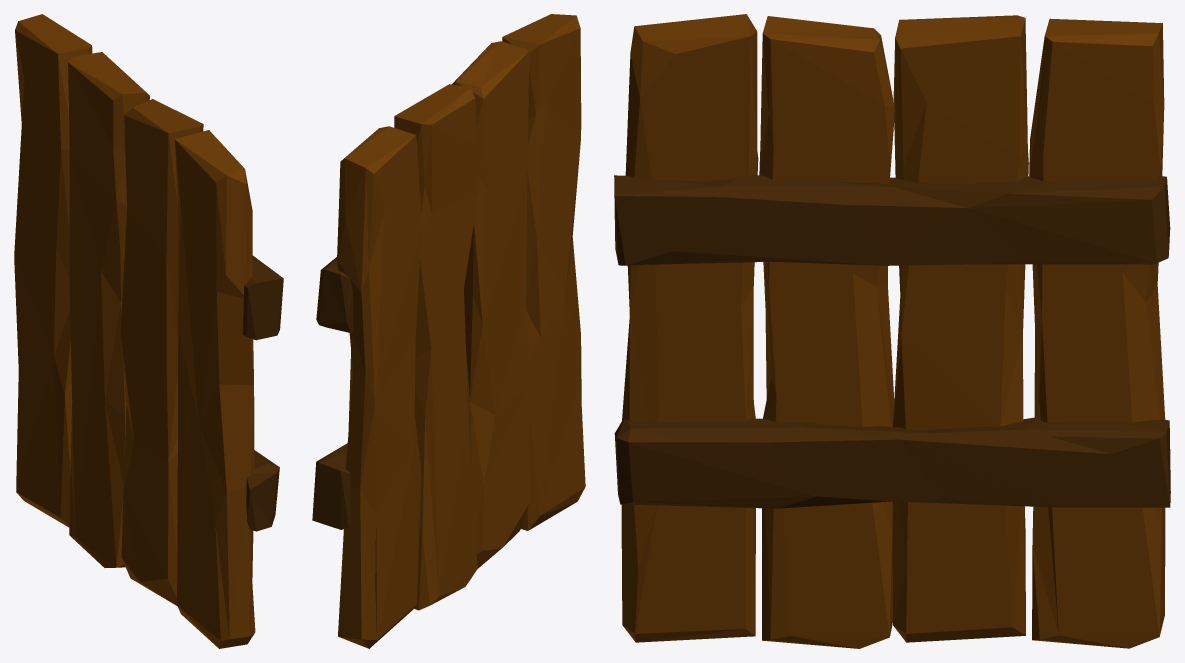
The model's file is PicketFence 1M.fbx.
3 views of the same model, side by side, from view 1: azimuth 30°, elevation 25°; view 2: azimuth 150°, elevation 25°; view 3: azimuth 270°, elevation 25° (orthographic). The views are drawn at different scales.
Visible parts, largest first — view 1: Cube.004, Cube.005, Cube.003, Cube.012, Cube.013, Cube.014; view 2: Cube.012, Cube.003, Cube.005, Cube.004, Cube.014, Cube.013; view 3: Cube.005, Cube.003, Cube.012, Cube.004, Cube.013, Cube.014.
Boxes of the visible parts, left/top/right/bottom form: Cube.004: left=174, top=130, right=255, bottom=648; Cube.005: left=68, top=52, right=149, bottom=567; Cube.003: left=120, top=99, right=203, bottom=606; Cube.012: left=14, top=14, right=92, bottom=527; Cube.013: left=243, top=255, right=283, bottom=340; Cube.014: left=246, top=450, right=279, bottom=531; Cube.012: left=337, top=126, right=421, bottom=648; Cube.003: left=452, top=41, right=529, bottom=568; Cube.005: left=394, top=84, right=478, bottom=610; Cube.004: left=502, top=14, right=585, bottom=530; Cube.014: left=312, top=443, right=350, bottom=529; Cube.013: left=316, top=257, right=353, bottom=332; Cube.005: left=892, top=15, right=1028, bottom=642; Cube.003: left=759, top=16, right=894, bottom=648; Cube.012: left=1029, top=18, right=1165, bottom=648; Cube.004: left=621, top=14, right=758, bottom=642; Cube.013: left=614, top=175, right=1170, bottom=265; Cube.014: left=614, top=417, right=1170, bottom=508.
Bounding box in the file's own units: 32.02 × 250 × 206.
